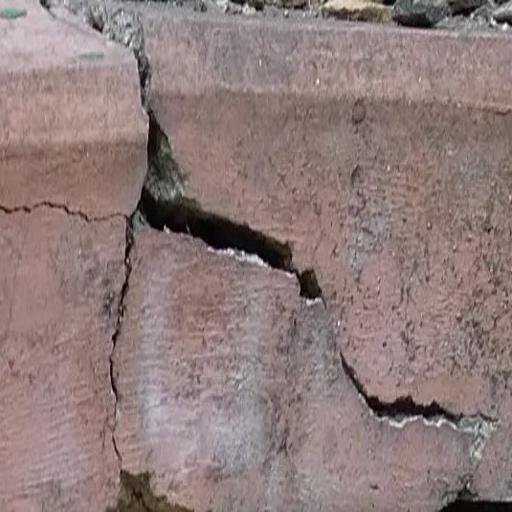major_crack: (6, 0, 484, 451)
